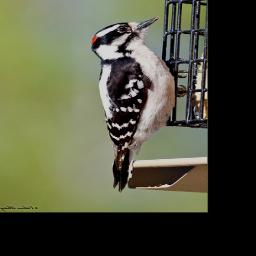Woodpecker: (88, 17, 188, 195)
